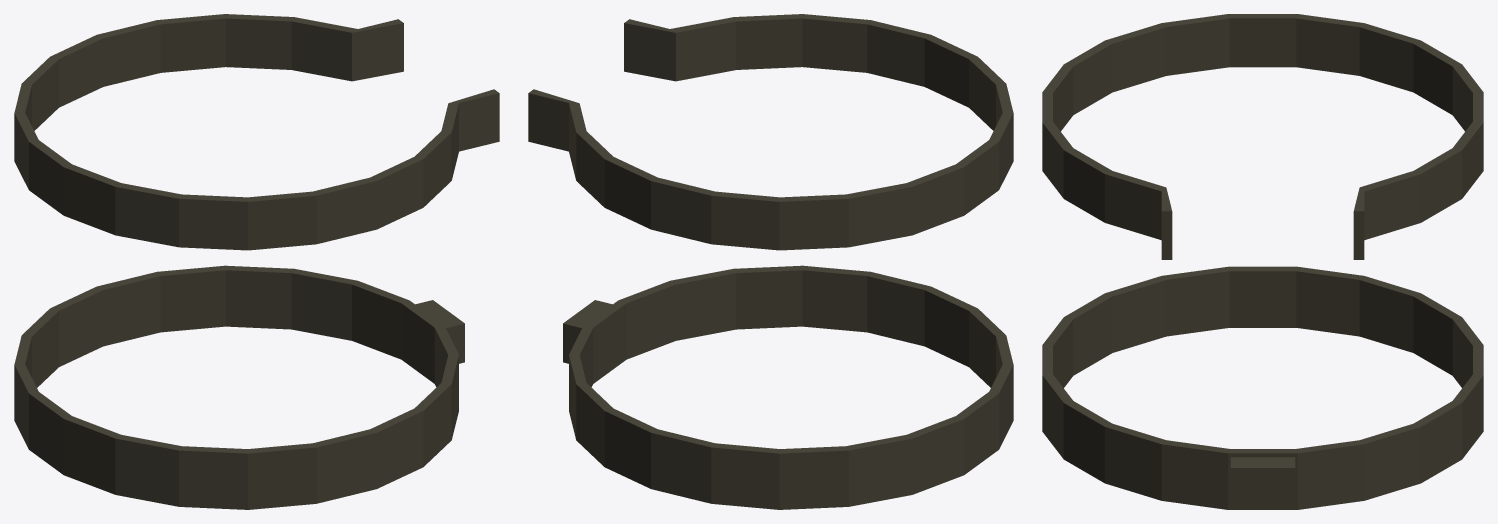
File: SM_Cart_BaoGasMount_01.fbx
3 views of the same model, side by side, from view 1: azimuth 30°, elevation 25°; view 2: azimuth 150°, elevation 25°; view 3: azimuth 270°, elevation 25° (orthographic).
Parts seen in each view (by area): view 1: SM_Cart_BaoGasMount_01; view 2: SM_Cart_BaoGasMount_01; view 3: SM_Cart_BaoGasMount_01.
Part boxes in pixels (bbox=[...]): SM_Cart_BaoGasMount_01: bbox=[14, 14, 499, 509]; SM_Cart_BaoGasMount_01: bbox=[528, 14, 1013, 509]; SM_Cart_BaoGasMount_01: bbox=[1042, 14, 1483, 509].
Bounding box in the file's own units: 0.4336 × 0.317 × 0.4101.
Materials: 1 (1 with a texture image).
